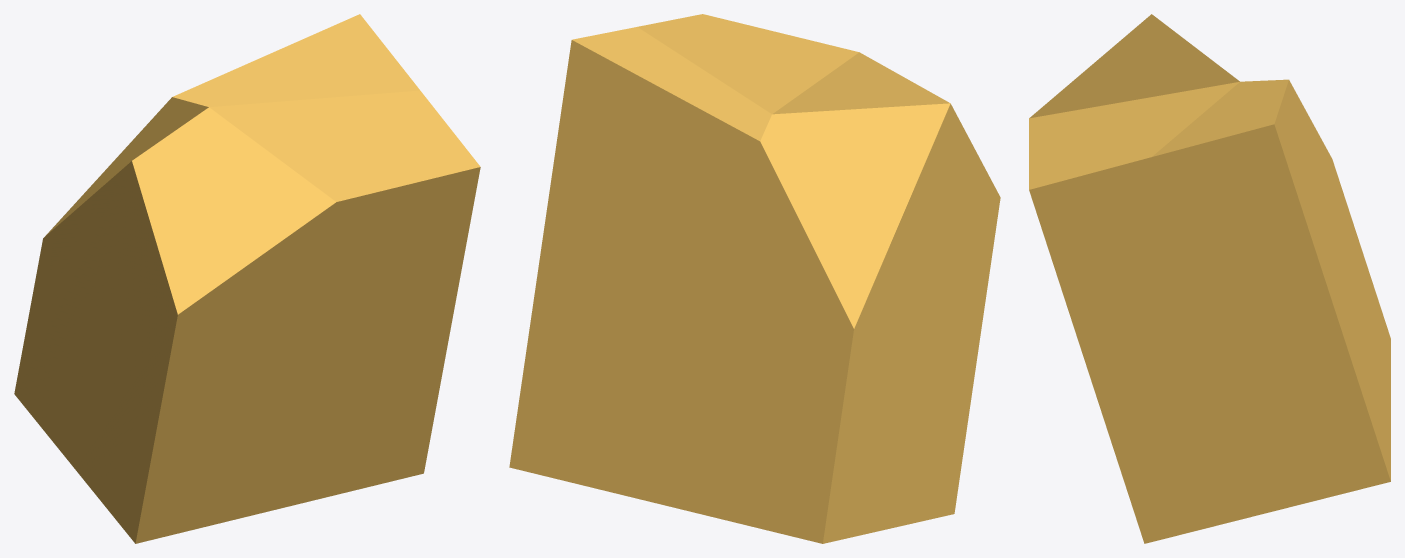
The model's file is Boat skeleton broken column5.fbx.
3 views of the same model, side by side, from view 1: azimuth 30°, elevation 25°; view 2: azimuth 150°, elevation 25°; view 3: azimuth 270°, elevation 25° (orthographic). The views are drawn at different scales.
Parts seen in each view (by area): view 1: Broken columns.004; view 2: Broken columns.004; view 3: Broken columns.004.
Part boxes in pixels (x1,y1,x2,y2): Broken columns.004: (14,14,480,543); Broken columns.004: (509,14,1000,543); Broken columns.004: (1029,14,1390,543).
Size of the model in its own units: 4 by 5.47 by 4.27.
